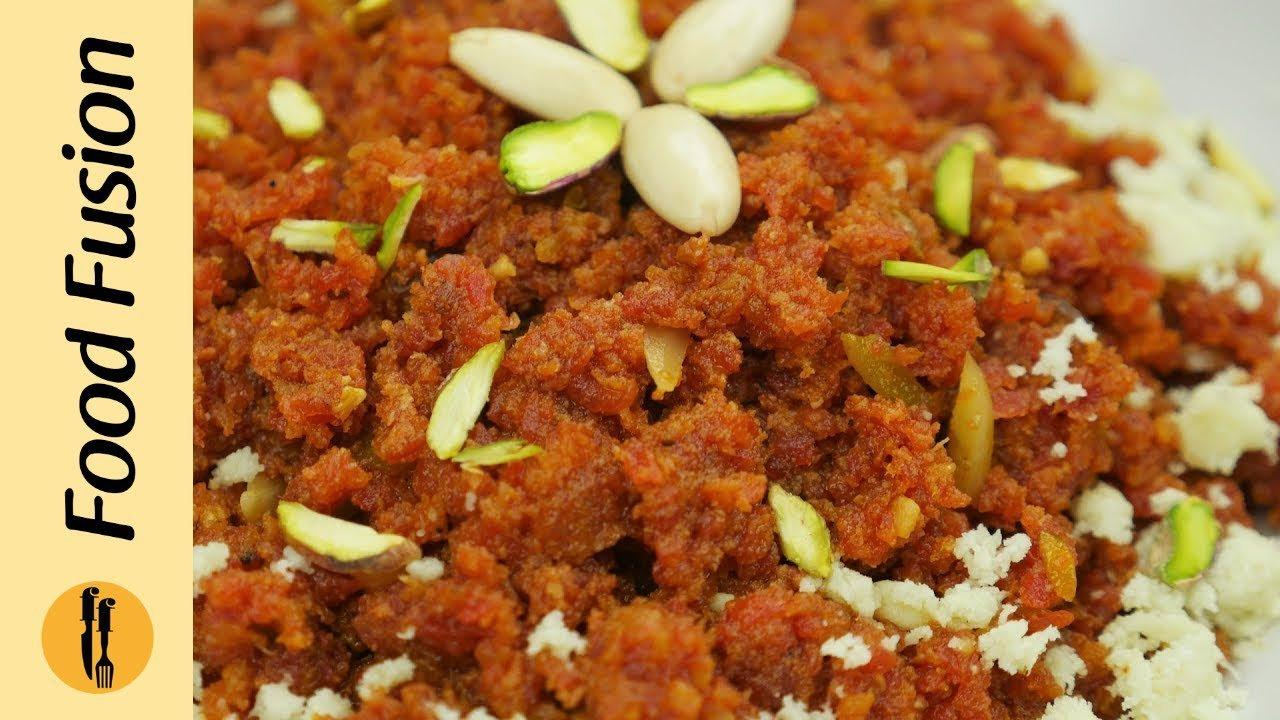Gajar ka halwa: (195, 0, 1280, 720)
